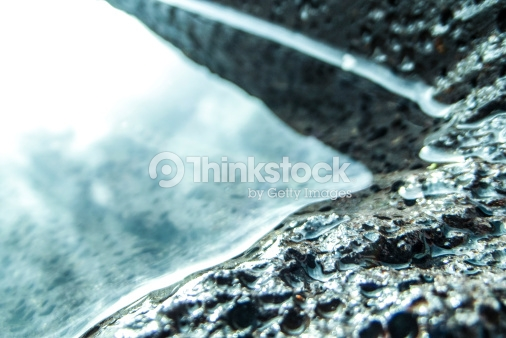volcanic_rock: (251, 184, 504, 338)
